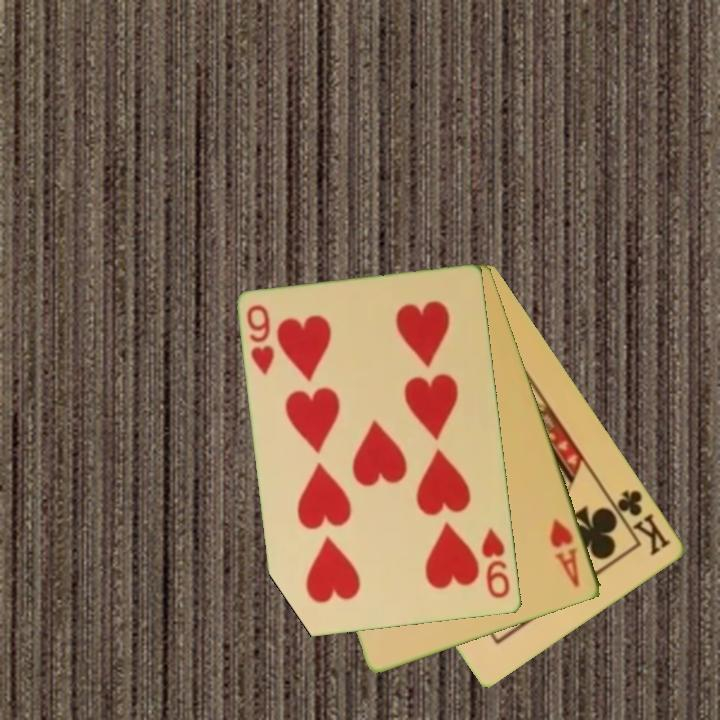9h: (478, 525, 513, 602), (244, 301, 278, 378)
Ah: (546, 515, 583, 590)
Kc: (606, 486, 675, 559)
